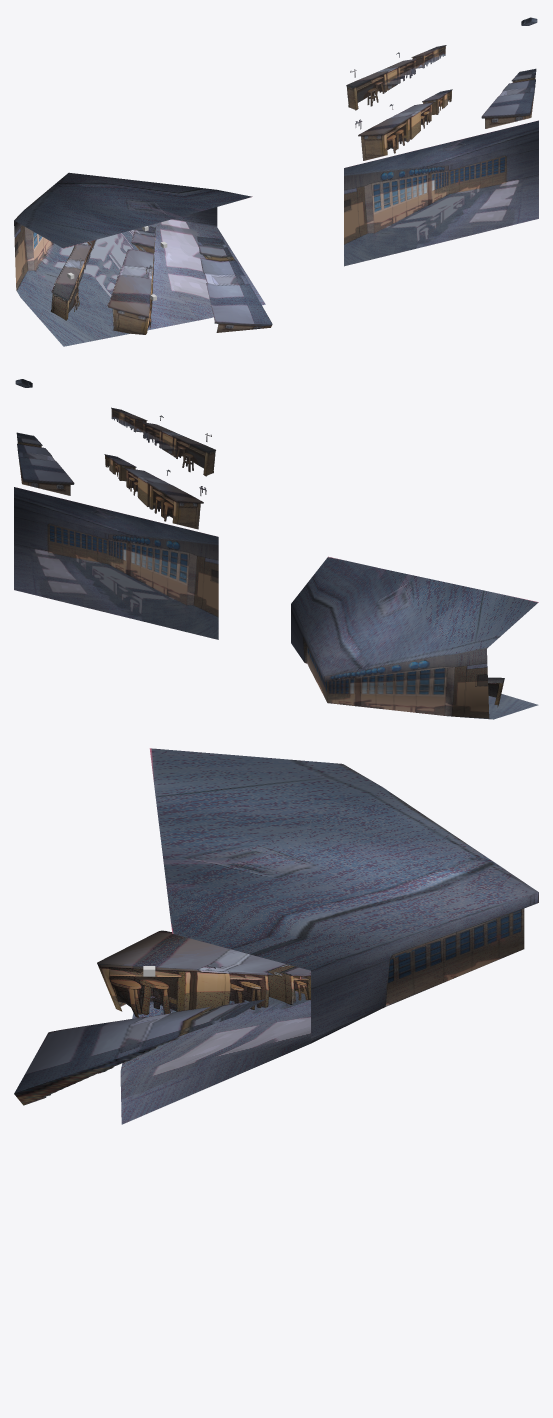
Rendered from bg_science.FBX.
The picture shows the model from 3 angles, top to bottom: view 1: azimuth 30°, elevation 25°; view 2: azimuth 150°, elevation 25°; view 3: azimuth 270°, elevation 25°; orthographic projection. The views are drawn at different scales.
Parts seen in each view (by area): view 1: bg, map sample; view 2: map sample, bg; view 3: bg.
Boxes of the visible parts, x1=… form: bg: x1=14, y1=172, x2=272, y2=346; map sample: x1=344, y1=17, x2=538, y2=266; map sample: x1=14, y1=379, x2=218, y2=639; bg: x1=291, y1=556, x2=538, y2=719; bg: x1=14, y1=748, x2=538, y2=1124.
Size of the model in its own units: 250 by 100 by 120.
1 material, 1 textured.
